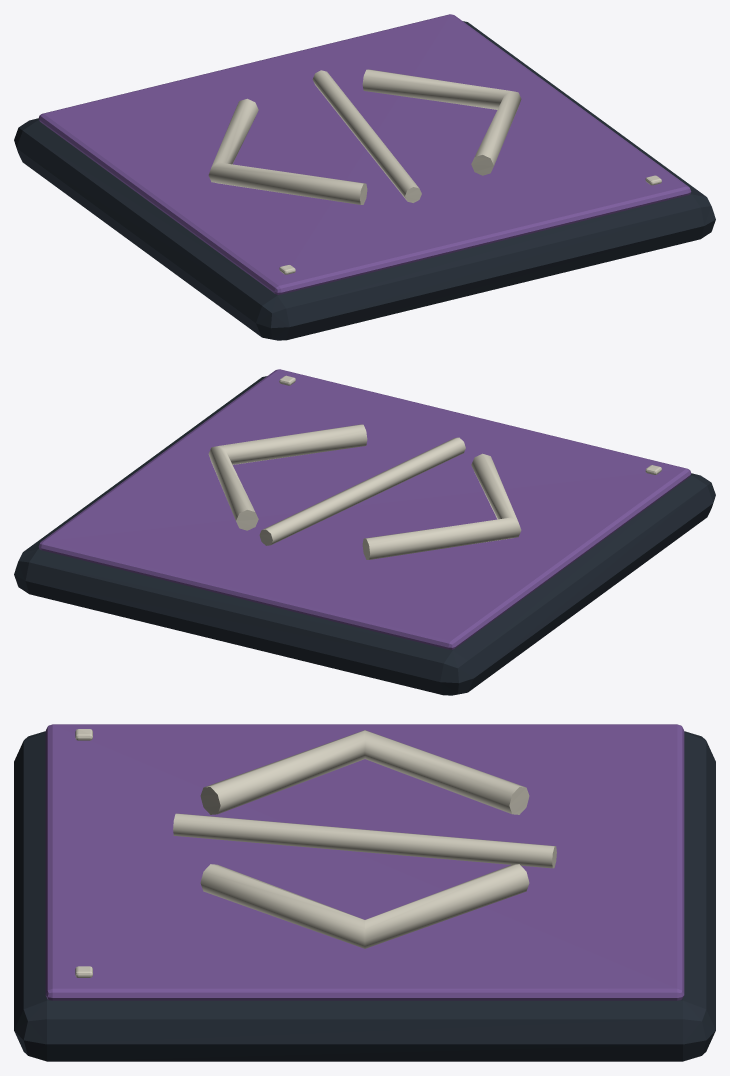
The model's file is app_code.glb.
3 renders of one model, top to bottom at view 1: azimuth 30°, elevation 25°; view 2: azimuth 150°, elevation 25°; view 3: azimuth 270°, elevation 25°, orthographic. The views are drawn at different scales.
Visible parts, largest first — view 1: app_code; view 2: app_code; view 3: app_code.
Part boxes in pixels (x1=…): app_code: x1=14, y1=14, x2=715, y2=340; app_code: x1=14, y1=369, x2=715, y2=695; app_code: x1=14, y1=724, x2=715, y2=1061.
Bounding box in the file's own units: 1 × 0.158 × 1.
